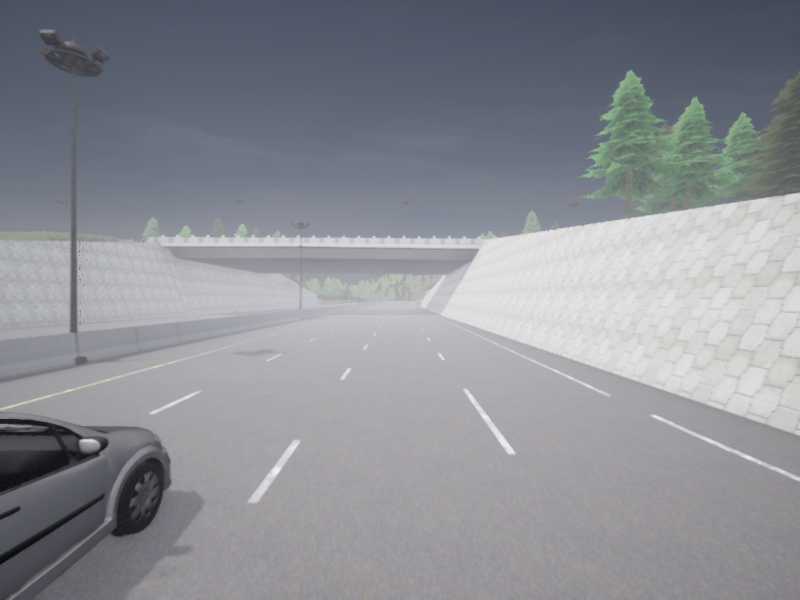vehicle: (0, 411, 170, 599)
